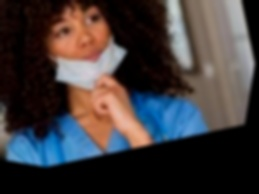mask_weared_incorrect: (40, 1, 126, 91)
